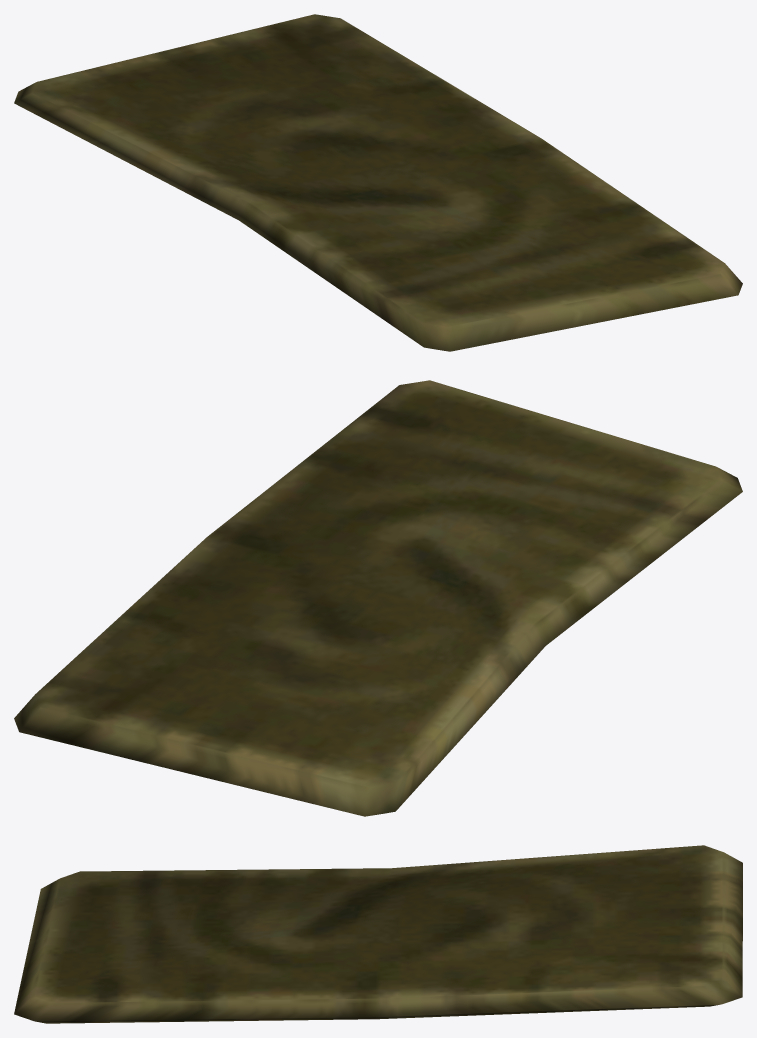
Rendered from INST_MIRK_BEDROLL_3.obj.
The picture shows the model from 3 angles, top to bottom: view 1: azimuth 30°, elevation 25°; view 2: azimuth 150°, elevation 25°; view 3: azimuth 270°, elevation 25°; orthographic projection. The views are drawn at different scales.
Parts seen in each view (by area): view 1: Box01; view 2: Box01; view 3: Box01.
Part boxes in pixels (x1,y1,x2,y2): Box01: (14, 14, 742, 351); Box01: (14, 380, 742, 816); Box01: (14, 845, 742, 1023).
Bounding box in the file's own units: 128 × 8.78 × 239.
